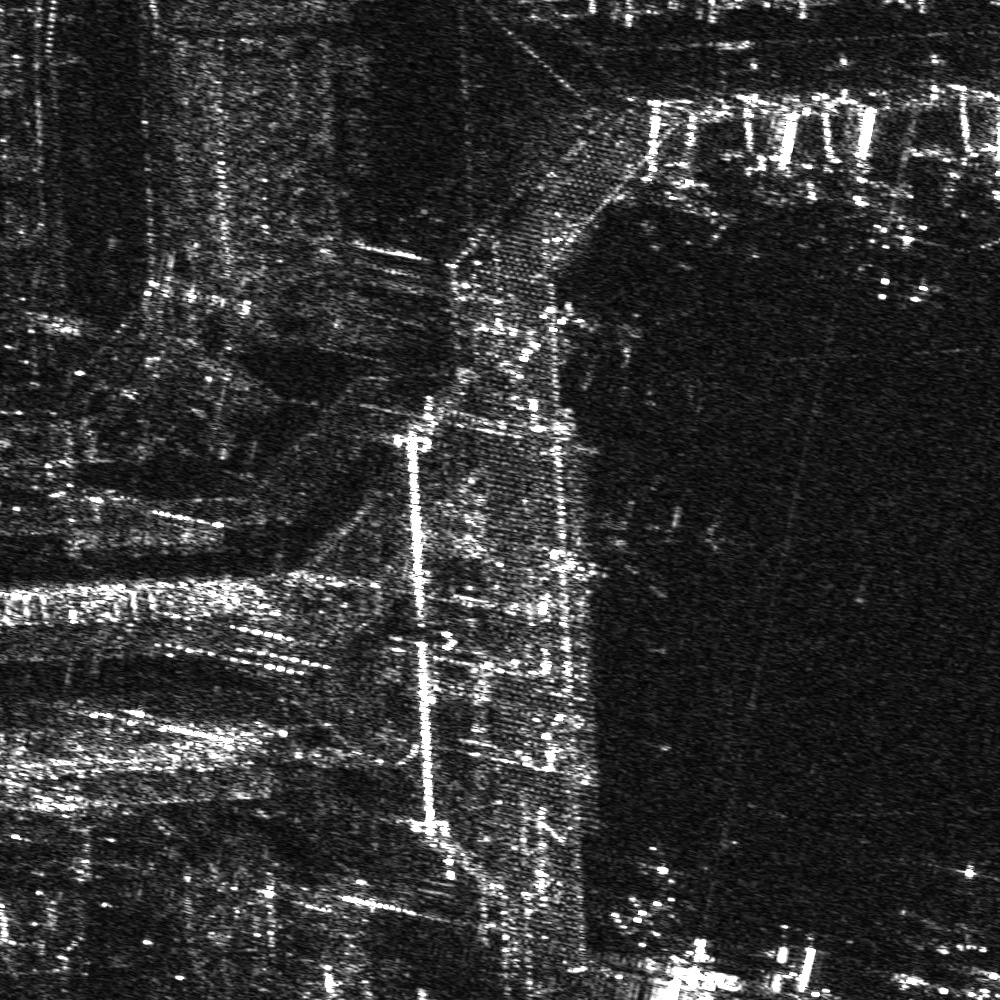A320/321: (587, 474, 725, 605), (846, 216, 952, 313)
